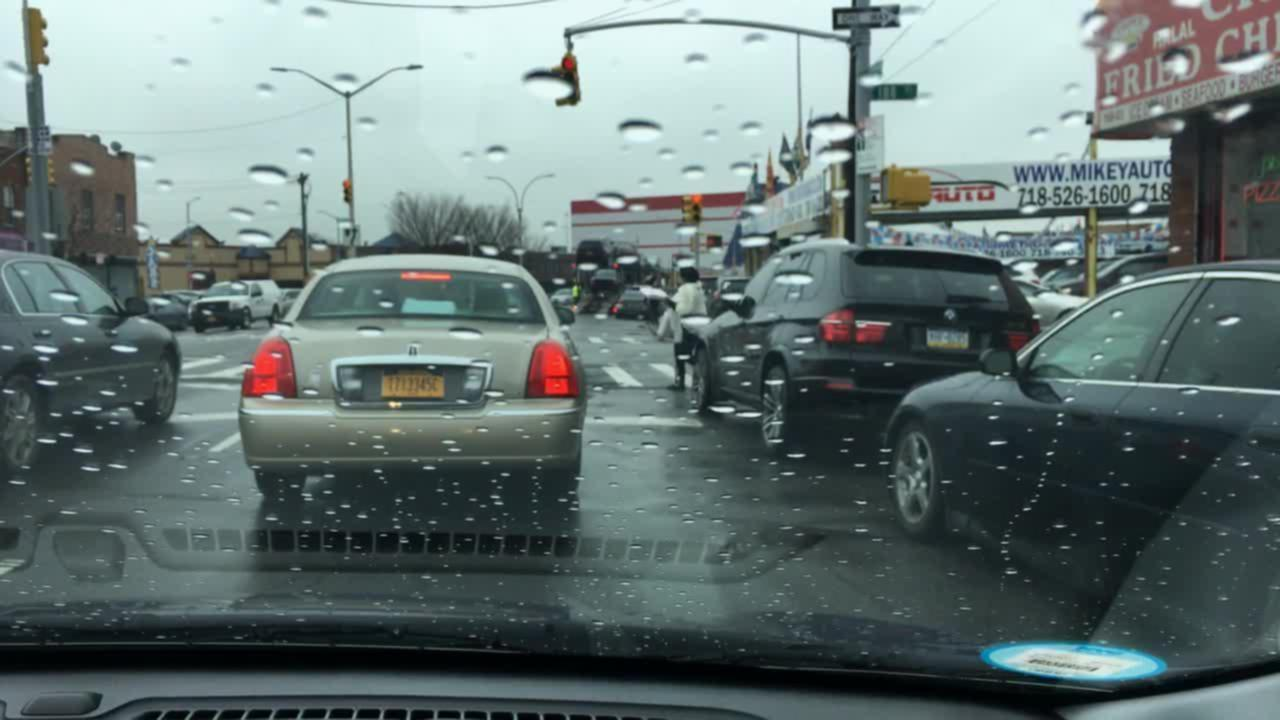bmw: (933, 297, 966, 330)
lincoln: (402, 337, 430, 365)
